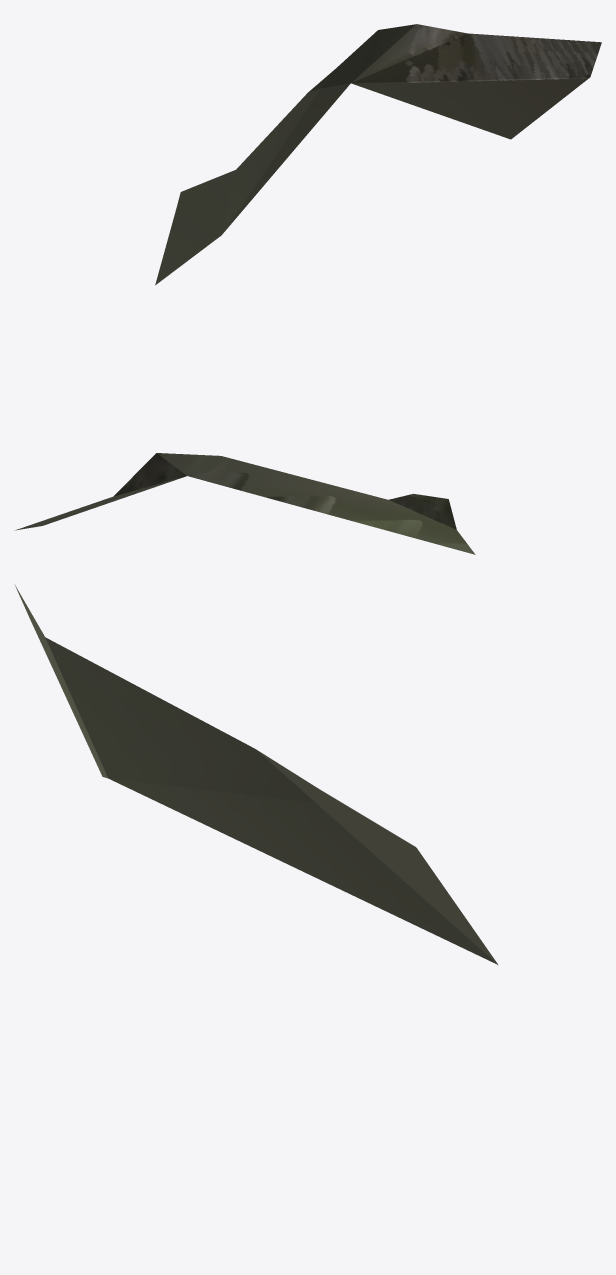
The picture shows the model from 3 angles, top to bottom: view 1: azimuth 30°, elevation 25°; view 2: azimuth 150°, elevation 25°; view 3: azimuth 270°, elevation 25°; orthographic projection. The views are drawn at different scales.
Size of the model in its own units: 2.95 by 0.9845 by 1.86.
2 materials, 2 textured.
